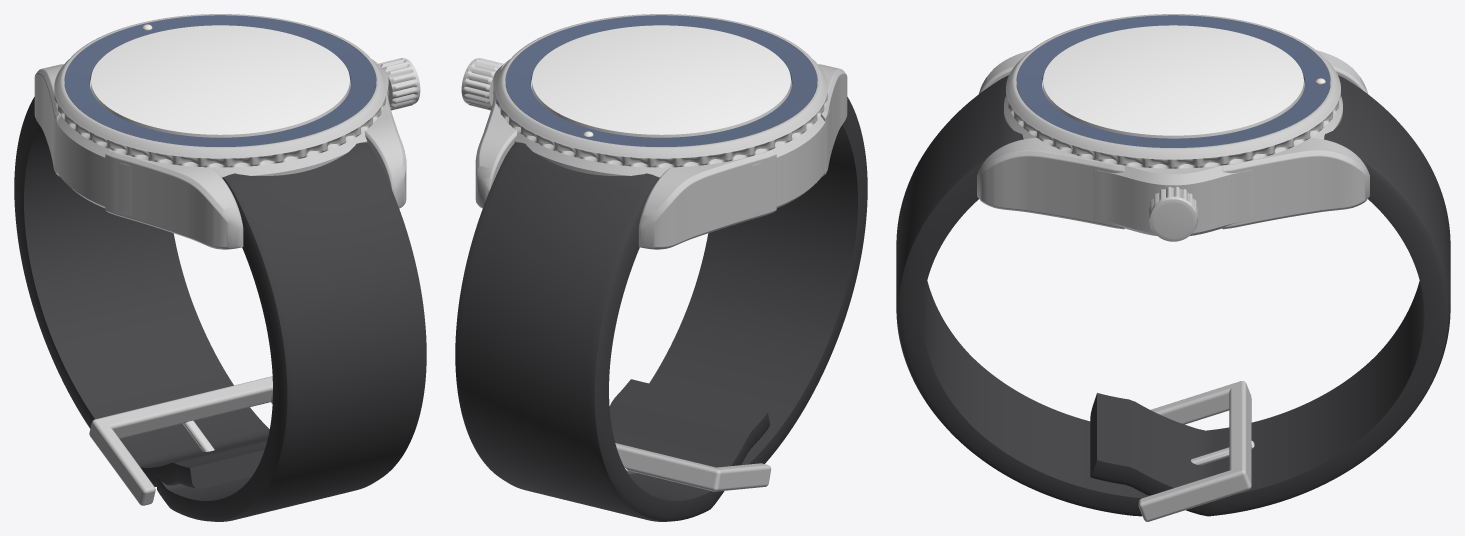
Rendered from watch.glb.
3 views of the same model, side by side, from view 1: azimuth 30°, elevation 25°; view 2: azimuth 150°, elevation 25°; view 3: azimuth 270°, elevation 25° (orthographic).
Visible parts, largest first — view 1: strap_6, strap_12, crystal, insert, bezel, lug_l6, drum, buckle_f, lug_r6, buckle_l, lug_l12, crown; view 2: strap_12, strap_6, crystal, insert, bezel, lug_l12, drum, buckle_f, lug_r12, lug_l6, crown, buckle_l; view 3: strap_12, strap_6, crystal, insert, bezel, drum, lug_r6, lug_r12, buckle_r, buckle_f, buckle_l, crown_face (+1 smaller).
Part boxes in pixels (bbox=[...]): strap_6: bbox=[157, 142, 426, 521]; strap_12: bbox=[14, 97, 269, 488]; crystal: bbox=[91, 25, 349, 137]; insert: bbox=[64, 15, 376, 146]; bezel: bbox=[54, 14, 386, 167]; lug_l6: bbox=[105, 149, 243, 249]; drum: bbox=[52, 59, 388, 215]; buckle_f: bbox=[89, 377, 272, 441]; lug_r6: bbox=[364, 91, 406, 208]; buckle_l: bbox=[89, 420, 155, 505]; lug_l12: bbox=[34, 64, 63, 176]; crown: bbox=[378, 58, 420, 110]; strap_12: bbox=[455, 142, 769, 521]; strap_6: bbox=[649, 97, 867, 465]; crystal: bbox=[532, 25, 790, 137]; insert: bbox=[505, 15, 817, 146]; bezel: bbox=[495, 14, 827, 167]; lug_l12: bbox=[638, 149, 776, 249]; drum: bbox=[493, 59, 829, 215]; buckle_f: bbox=[615, 443, 725, 491]; lug_r12: bbox=[475, 91, 517, 208]; lug_l6: bbox=[818, 64, 847, 176]; crown: bbox=[461, 58, 503, 110]; buckle_l: bbox=[707, 463, 771, 491]; strap_12: bbox=[1090, 75, 1450, 516]; strap_6: bbox=[896, 75, 1151, 516]; crystal: bbox=[1043, 25, 1303, 138]; insert: bbox=[1016, 15, 1330, 147]; bezel: bbox=[1006, 14, 1340, 168]; drum: bbox=[1004, 96, 1342, 235]; lug_r6: bbox=[977, 137, 1124, 229]; lug_r12: bbox=[1222, 137, 1369, 229]; buckle_r: bbox=[1138, 467, 1251, 521]; buckle_f: bbox=[1229, 381, 1251, 492]; buckle_l: bbox=[1151, 381, 1250, 424]; crown_face: bbox=[1153, 202, 1193, 238].
Size of the model in its own units: 47.87 by 55.83 by 68.
